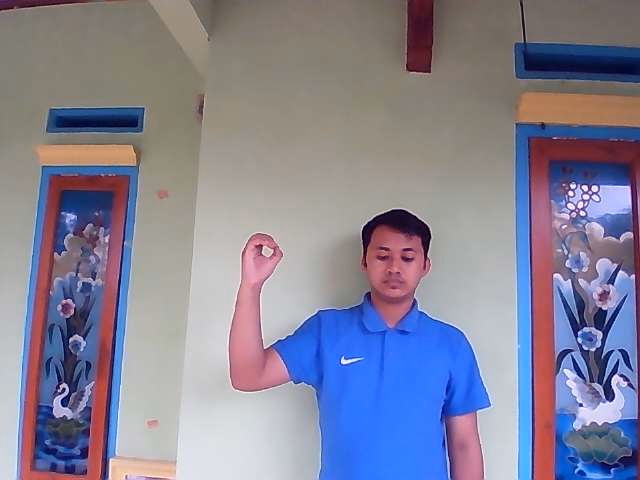O: (237, 231, 284, 287)
